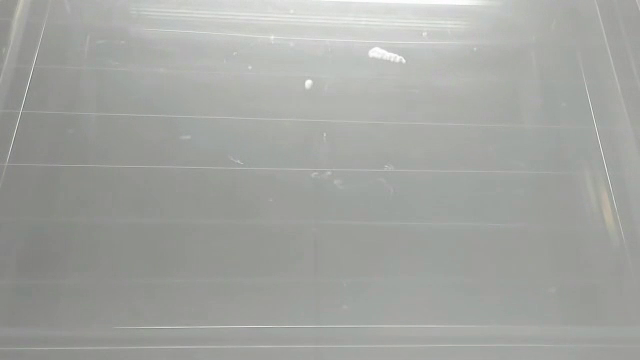alpha: (364, 43, 410, 68), (301, 74, 318, 93)
